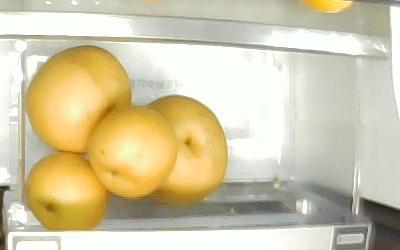pear: (26, 45, 132, 153), (145, 94, 227, 198), (87, 105, 177, 199), (27, 154, 108, 230)
